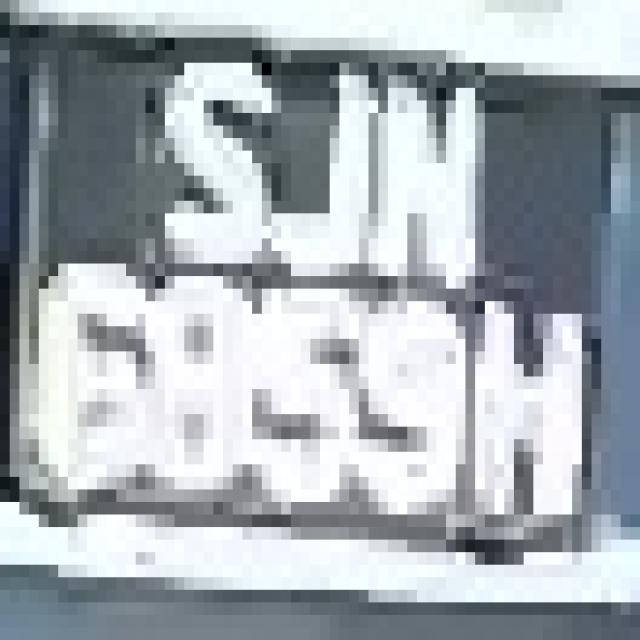5: (242, 238, 368, 540)
6: (20, 226, 146, 527)
8: (126, 264, 252, 514)
9: (349, 288, 466, 540)
H: (456, 251, 601, 577)
J: (262, 13, 398, 301)
N: (378, 13, 495, 301)
S: (126, 25, 281, 276)
